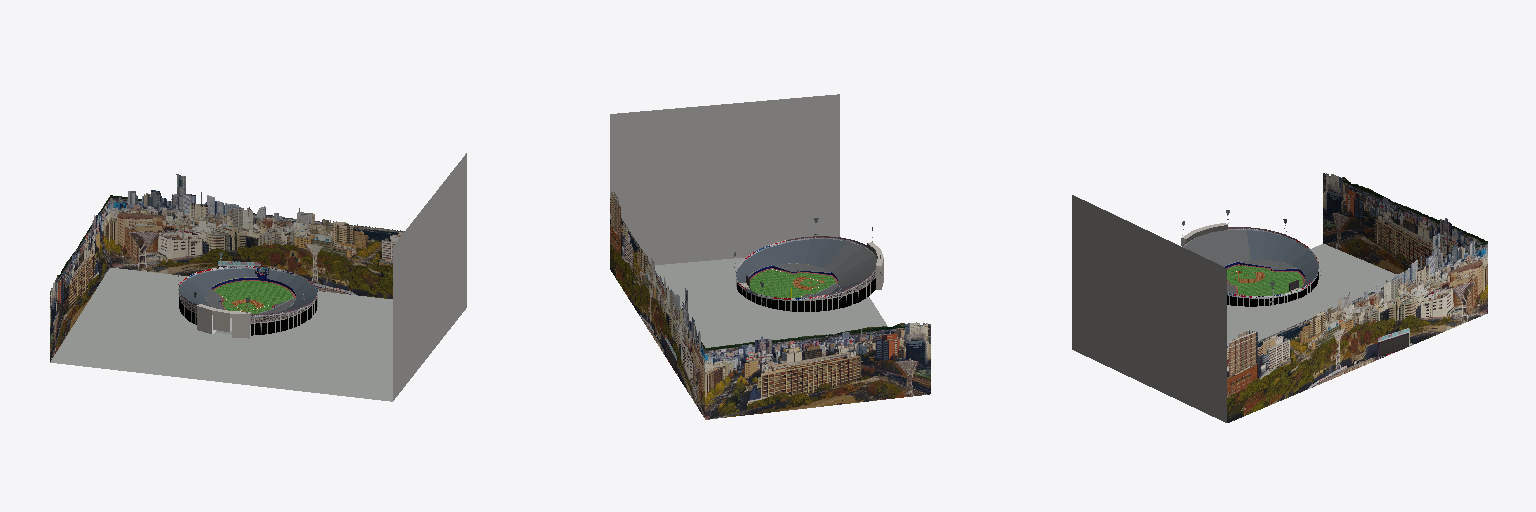
The picture shows the model from 3 angles: view 1: azimuth 30°, elevation 25°; view 2: azimuth 150°, elevation 25°; view 3: azimuth 270°, elevation 25°; orthographic projection.
Visible parts, largest first — view 1: Yokohama_Stadium_Main-Concrete_Form_4x8, Yokohama_Stadium_Main-yokohama_center, Yokohama_Stadium_Main-yokohama_right, Yokohama_Stadium_Main-yokohama_left, Yokohama_Stadium_Main-seating_attendance2_blue, Yokohama_Stadium_Main-Material9, Yokohama_Stadium_Main-astrodome_outerskin, Yokohama_Stadium_Main-contex; view 2: Yokohama_Stadium_Main-yokohama_right, Yokohama_Stadium_Main-yokohama_left, Yokohama_Stadium_Main-Concrete_Form_4x8, Yokohama_Stadium_Main-yokohama_center, Yokohama_Stadium_Main-seating_attendance2_blue, Yokohama_Stadium_Main-seating_attendance4_blue, Yokohama_Stadium_Main-astrodome_outerskin, Yokohama_Stadium_Main-Material9; view 3: Yokohama_Stadium_Main-yokohama_right, Yokohama_Stadium_Main-yokohama_center, Yokohama_Stadium_Main-yokohama_left, Yokohama_Stadium_Main-Concrete_Form_4x8, Yokohama_Stadium_Main-seating_attendance4_blue, Yokohama_Stadium_Main-seating_attendance2_blue, Yokohama_Stadium_Main-Material9, Yokohama_Stadium_Main-astrodome_outerskin.
Part boxes in pixels (x1,y1,x2,y2): Yokohama_Stadium_Main-Concrete_Form_4x8: (50,268,392,401); Yokohama_Stadium_Main-yokohama_center: (110,174,404,298); Yokohama_Stadium_Main-yokohama_right: (393,153,466,400); Yokohama_Stadium_Main-yokohama_left: (50,197,109,361); Yokohama_Stadium_Main-seating_attendance2_blue: (179,268,316,311); Yokohama_Stadium_Main-Material9: (214,281,293,313); Yokohama_Stadium_Main-astrodome_outerskin: (179,293,317,335); Yokohama_Stadium_Main-contex: (197,304,250,338); Yokohama_Stadium_Main-yokohama_right: (610,94,839,264); Yokohama_Stadium_Main-yokohama_left: (705,322,930,419); Yokohama_Stadium_Main-Concrete_Form_4x8: (655,257,887,347); Yokohama_Stadium_Main-yokohama_center: (610,191,704,417); Yokohama_Stadium_Main-seating_attendance2_blue: (736,239,860,293); Yokohama_Stadium_Main-seating_attendance4_blue: (774,242,876,297); Yokohama_Stadium_Main-astrodome_outerskin: (736,271,875,311); Yokohama_Stadium_Main-Material9: (750,269,835,297); Yokohama_Stadium_Main-yokohama_right: (1072,195,1226,422); Yokohama_Stadium_Main-yokohama_center: (1227,233,1487,422); Yokohama_Stadium_Main-yokohama_left: (1323,173,1486,273); Yokohama_Stadium_Main-Concrete_Form_4x8: (1227,244,1396,346); Yokohama_Stadium_Main-seating_attendance4_blue: (1184,230,1295,293); Yokohama_Stadium_Main-seating_attendance2_blue: (1227,230,1318,292); Yokohama_Stadium_Main-Material9: (1227,266,1302,295); Yokohama_Stadium_Main-astrodome_outerskin: (1227,272,1318,306).
Size of the model in its own units: 659 by 265 by 645.
42 materials, 27 textured.